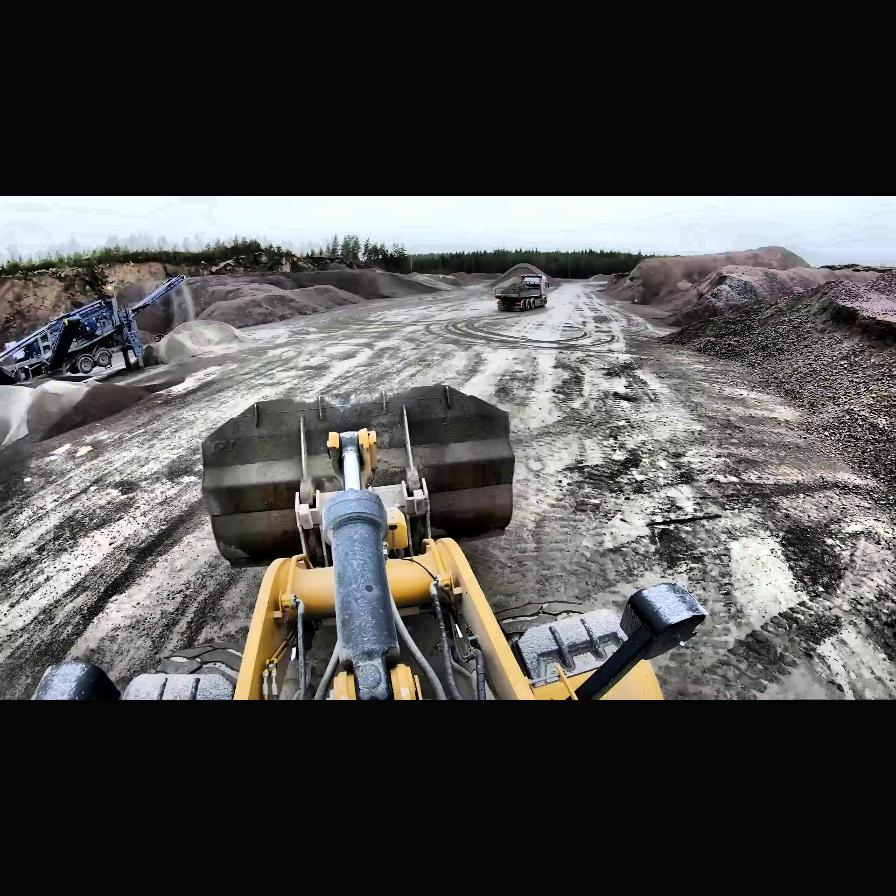anchor: (326, 428, 380, 490)
pile of gravel: (649, 265, 896, 494), (157, 265, 437, 330), (616, 246, 820, 314), (3, 377, 160, 447), (150, 319, 246, 365), (489, 263, 555, 291), (402, 272, 456, 290), (447, 272, 497, 286)
